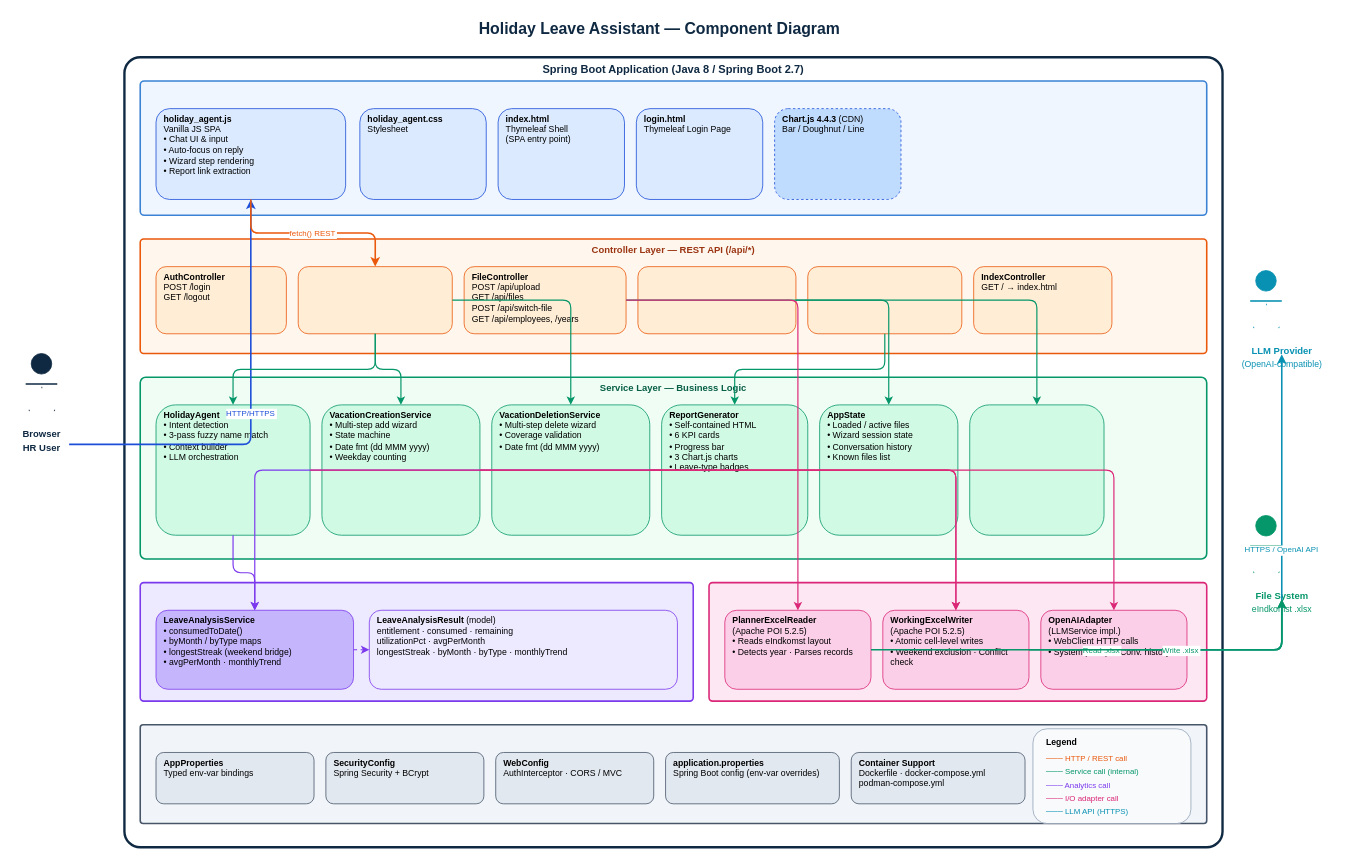
The diagram is 1349 pixels wide and 862 high, and some of its shapes have lost their labels. The shapes that lost their labels are listed below. From the top down, each one's box as (x1, y1, x2, y2) in pixels, then its label:
(139, 80, 1207, 216): Presentation Layer — Static Resources (served by Spring)
(297, 266, 452, 334): ChatController POST /api/chat POST /api/clear-history (Wizard dispatch)
(637, 266, 796, 334): VacationController POST/DELETE /api/vacations GET/POST/PUT /api/vacation-types
(807, 266, 962, 334): ReportsController GET /api/reports/{file} GET /api/sync-status
(969, 404, 1104, 535): Support Services VacationTypeService AuditService SyncService AuthInterceptor
(139, 581, 694, 702): Analysis Layer — Pure Analytics (Stateless)
(708, 581, 1207, 702): Infrastructure Layer — I/O Adapters
(139, 724, 1207, 824): Configuration & Security
